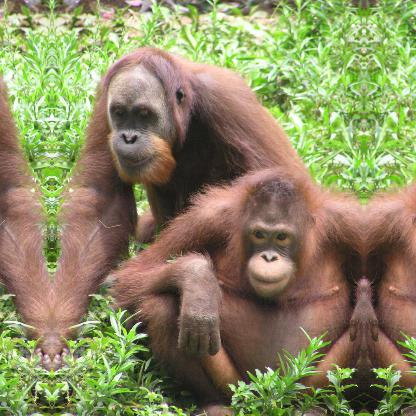Monkey: (52, 47, 298, 373), (101, 164, 363, 414), (0, 47, 53, 374)
